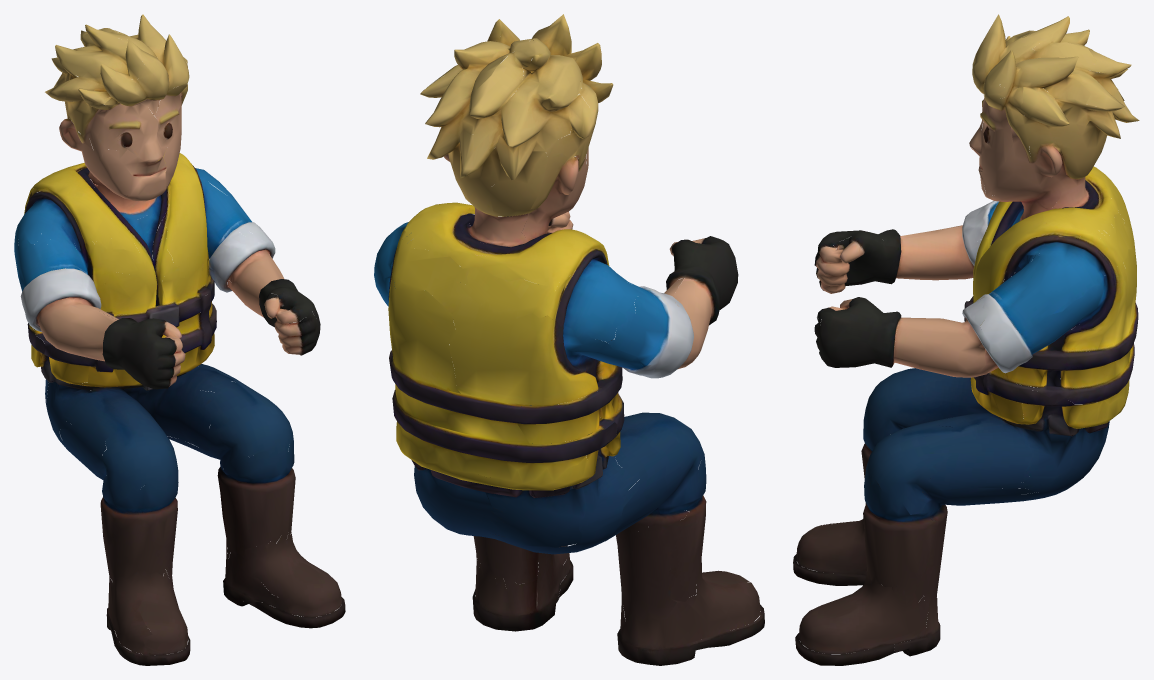
File: driver.glb
The picture shows the model from 3 angles, left to right: view 1: azimuth 30°, elevation 25°; view 2: azimuth 150°, elevation 25°; view 3: azimuth 270°, elevation 25°; orthographic projection. The views are drawn at different scales.
Parts seen in each view (by area): view 1: driver, driver_head; view 2: driver, driver_head; view 3: driver, driver_head.
Part boxes in pixels (box(x1,y1,x2,y2)): driver: box(14, 164, 345, 665); driver_head: box(37, 14, 195, 204); driver: box(374, 208, 764, 665); driver_head: box(404, 14, 613, 272); driver: box(793, 168, 1138, 665); driver_head: box(969, 14, 1139, 236).
Bounding box in the file's own units: 0.5549 × 1.18 × 0.6362.
Materials: 1 (1 with a texture image).
